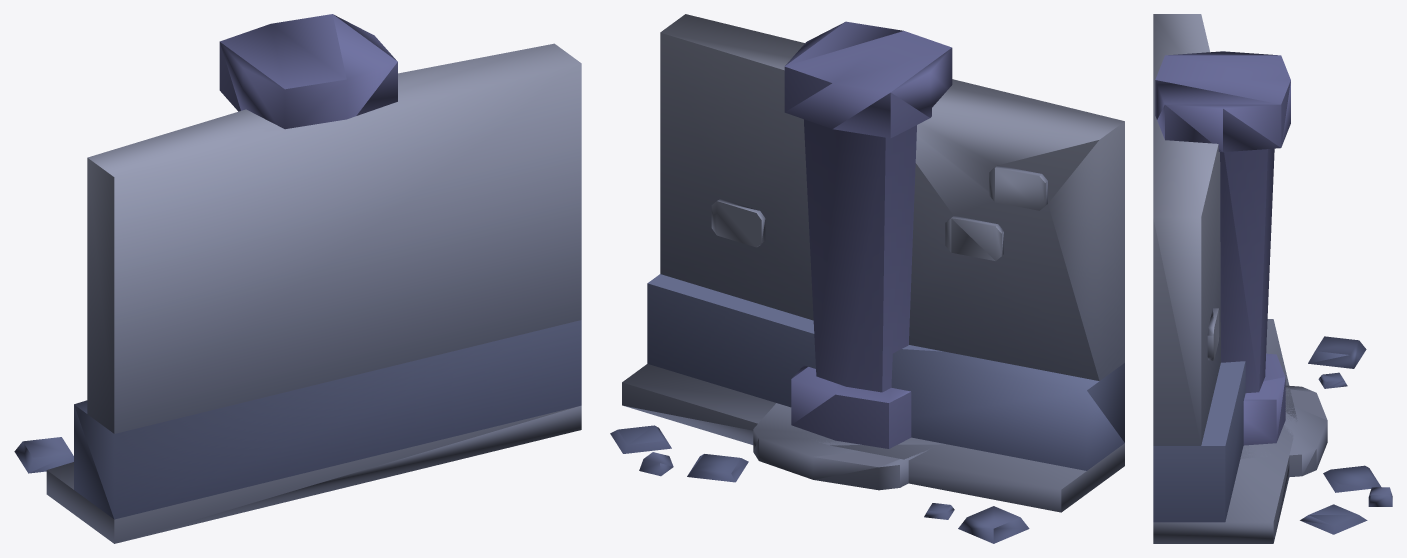
File: template-wall-detail-a_lev2.glb
3 views of the same model, side by side, from view 1: azimuth 30°, elevation 25°; view 2: azimuth 150°, elevation 25°; view 3: azimuth 270°, elevation 25° (orthographic). The views are drawn at different scales.
Parts seen in each view (by area): view 1: template-wall-detail-a_lev2; view 2: template-wall-detail-a_lev2; view 3: template-wall-detail-a_lev2.
Boxes of the visible parts, x1=… form: template-wall-detail-a_lev2: x1=14, y1=14, x2=581, y2=543; template-wall-detail-a_lev2: x1=610, y1=14, x2=1124, y2=543; template-wall-detail-a_lev2: x1=1153, y1=14, x2=1392, y2=543.
Bounding box in the file's own units: 4 × 3.33 × 1.99.
Materials: 1 (1 with a texture image).
